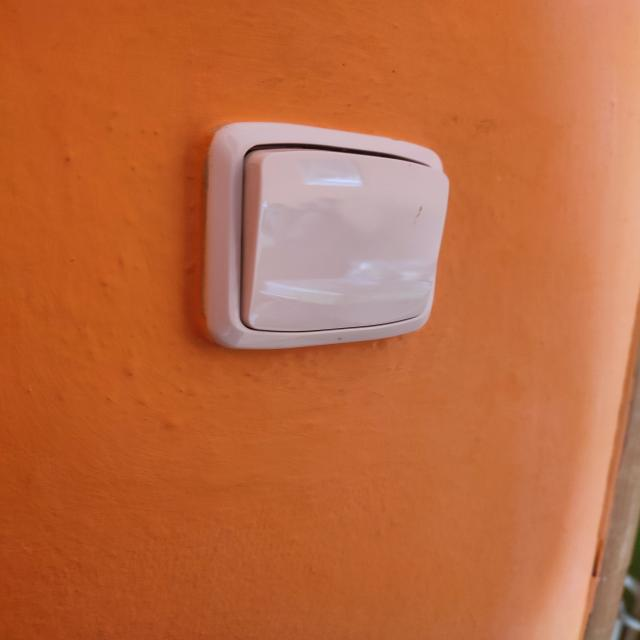house switch: (201, 122, 450, 350)
